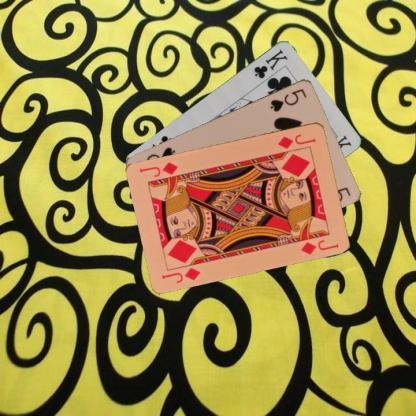5s: (268, 86, 308, 112)
Jd: (160, 264, 202, 284), (275, 131, 317, 150)
Kc: (251, 46, 289, 80)
